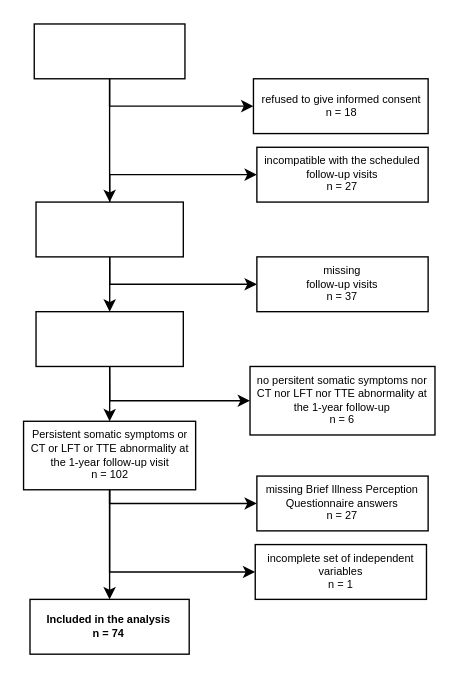
Image size: 460x678. Some labels were removed from this diagram. The box of each missing label's shape, as (x1, y1, x2, y2) in pixels:
Completed the 1-year follow-up visit n = 108: (35, 310, 183, 366)
Enrolled 2 months after COVID-19 n = 145: (35, 201, 183, 257)
Screened for participation n = 190: (33, 23, 185, 79)
